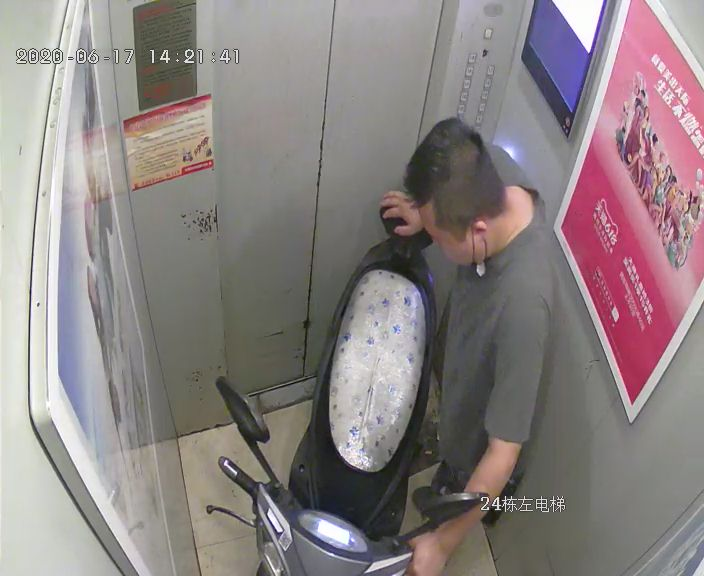Electric-bicycle: (204, 200, 488, 576)
